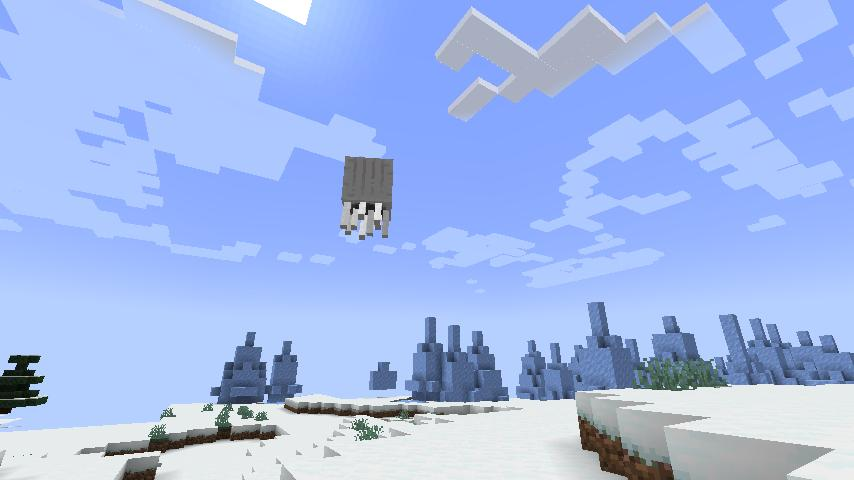ghast: (339, 154, 394, 241)
